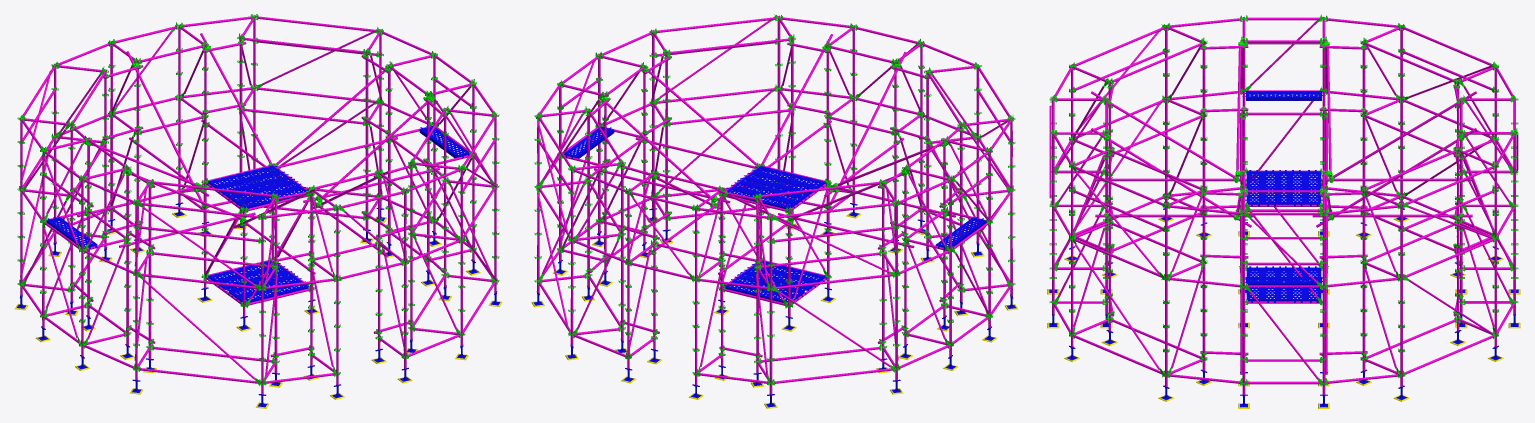
File: 3D_projet.glb
3 renders of one model, left to right at view 1: azimuth 30°, elevation 25°; view 2: azimuth 150°, elevation 25°; view 3: azimuth 270°, elevation 25°, orthographic. The views are drawn at different scales.
Bounding box in the file's own units: 0.0724 × 0.0337 × 0.0724.
